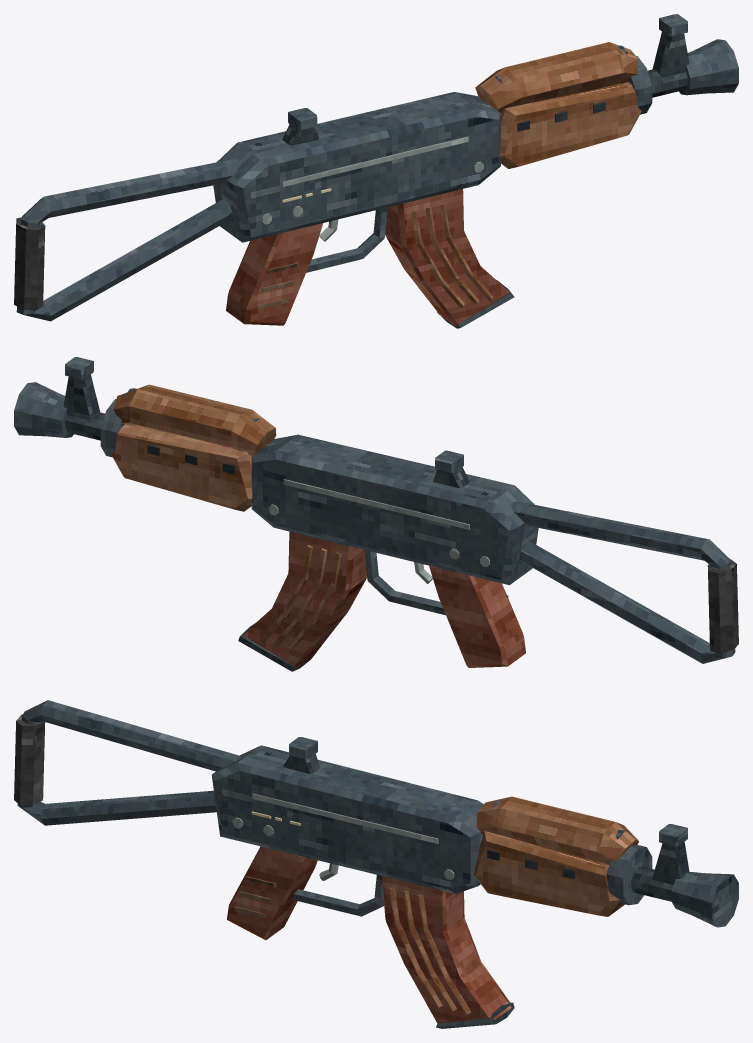
The model's file is 07_rifle_al.glb.
3 views of the same model, one above another, from view 1: azimuth 30°, elevation 25°; view 2: azimuth 150°, elevation 25°; view 3: azimuth 330°, elevation 25° (orthographic).
Parts seen in each view (by area): view 1: 07_rifle_al; view 2: 07_rifle_al; view 3: 07_rifle_al.
Boxes of the visible parts, bbox=[...] form: 07_rifle_al: bbox=[14, 14, 738, 328]; 07_rifle_al: bbox=[14, 357, 738, 671]; 07_rifle_al: bbox=[14, 700, 738, 1028].
Size of the model in its own units: 0.7635 by 0.2565 by 0.0593.
Materials: 1 (1 with a texture image).
